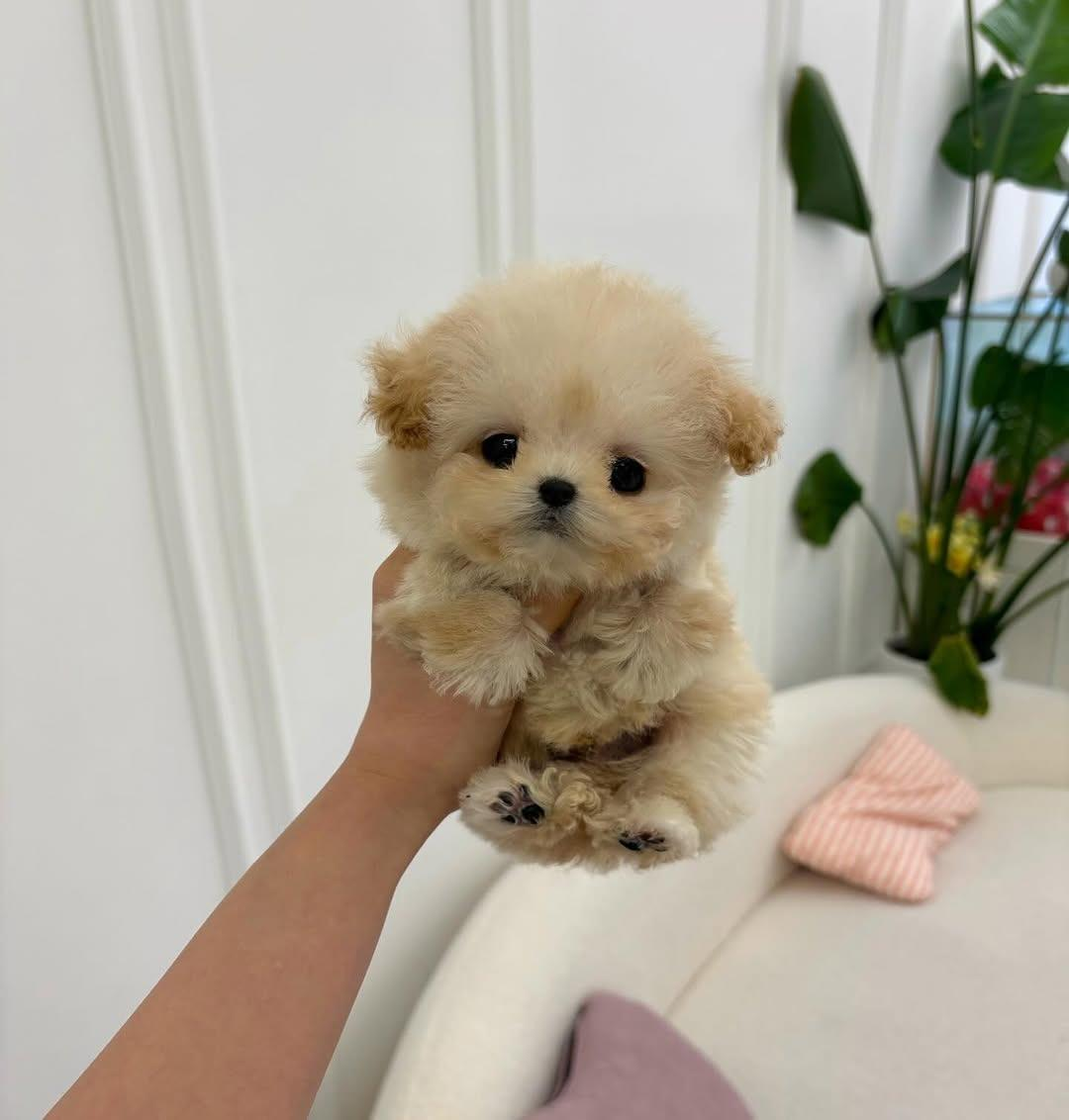puppy-dog: (356, 250, 790, 877)
